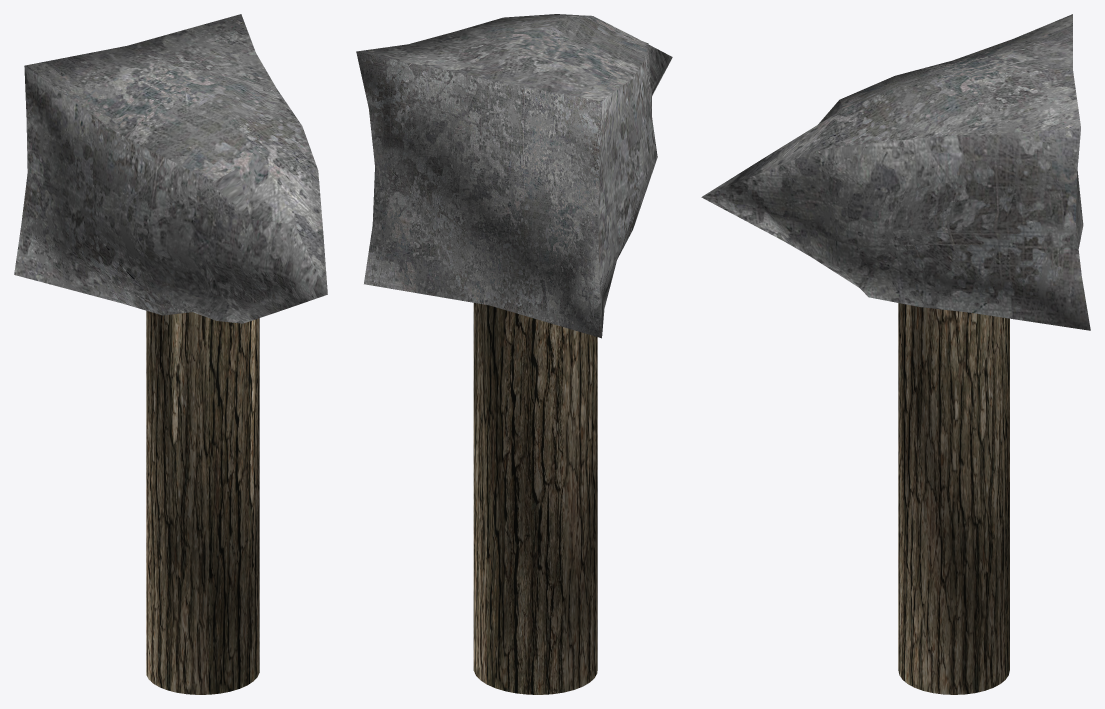
The model's file is Axe.obj.
3 views of the same model, side by side, from view 1: azimuth 30°, elevation 25°; view 2: azimuth 150°, elevation 25°; view 3: azimuth 270°, elevation 25° (orthographic). The views are drawn at different scales.
Visible parts, largest first — view 1: Cylinder; view 2: Cylinder; view 3: Cylinder.
Boxes of the visible parts, x1,y1,x2,y2 form: Cylinder: [14, 14, 327, 694]; Cylinder: [356, 14, 672, 694]; Cylinder: [701, 14, 1090, 694].
Bounding box in the file's own units: 2.29 × 5.73 × 3.39.
